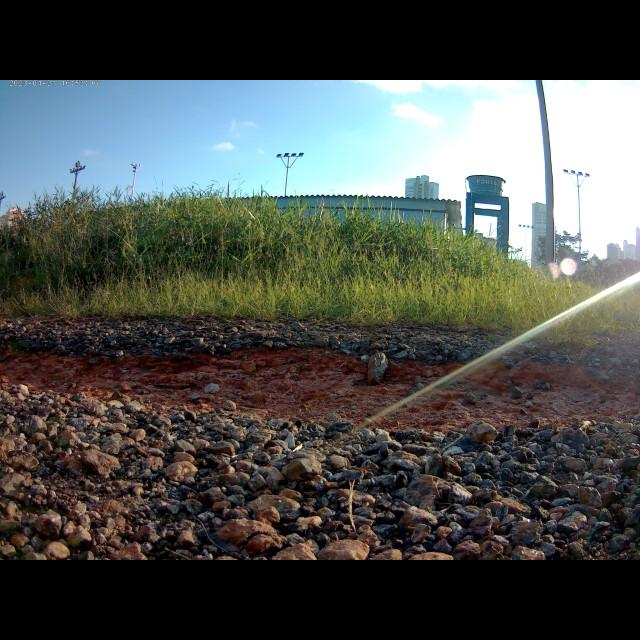ravina: (1, 339, 640, 441)
